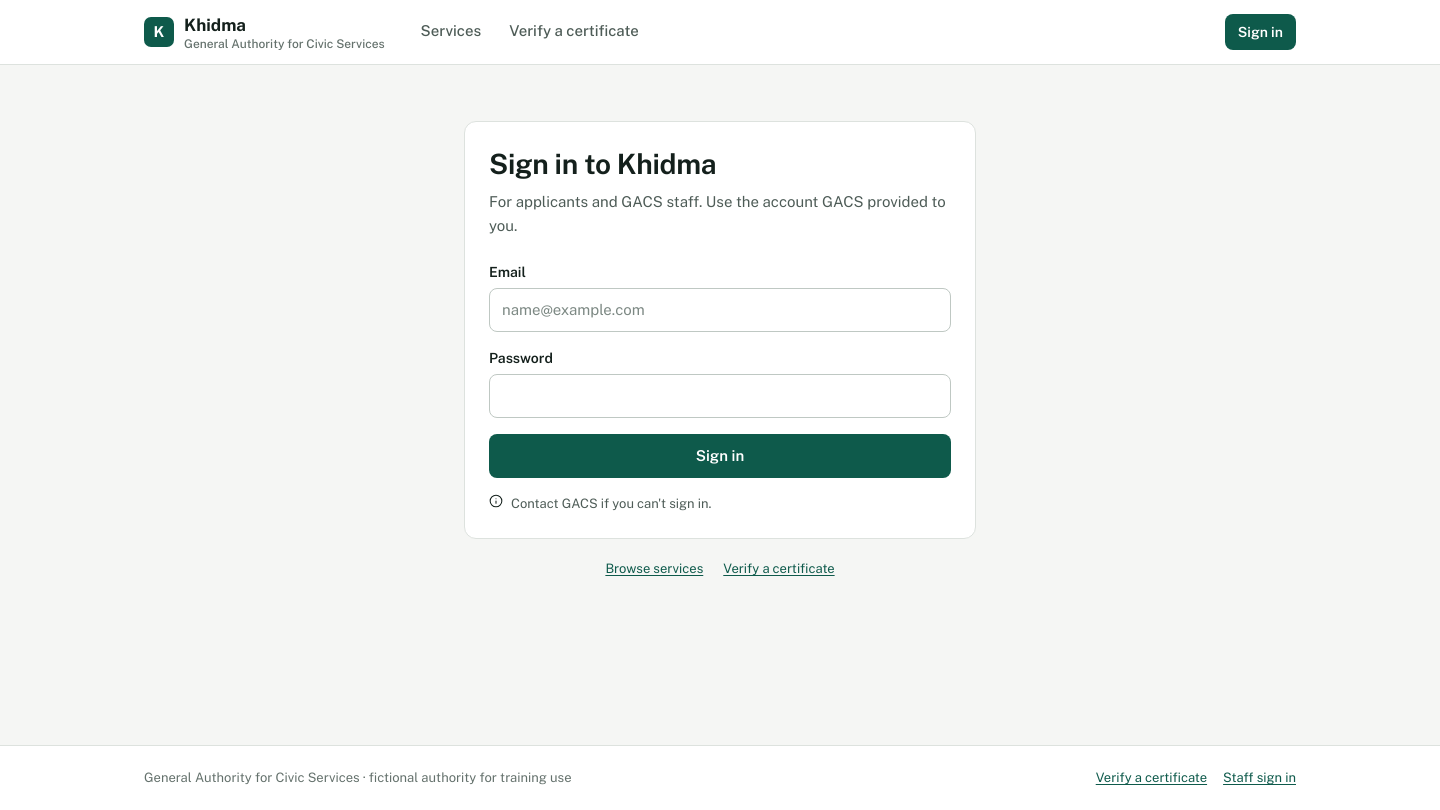
LoginPage › signs faisal in and lands on My requests
Type "faisal@khidma.test" into the field labelled "Email" at (720, 310), box [489, 288, 951, 332]
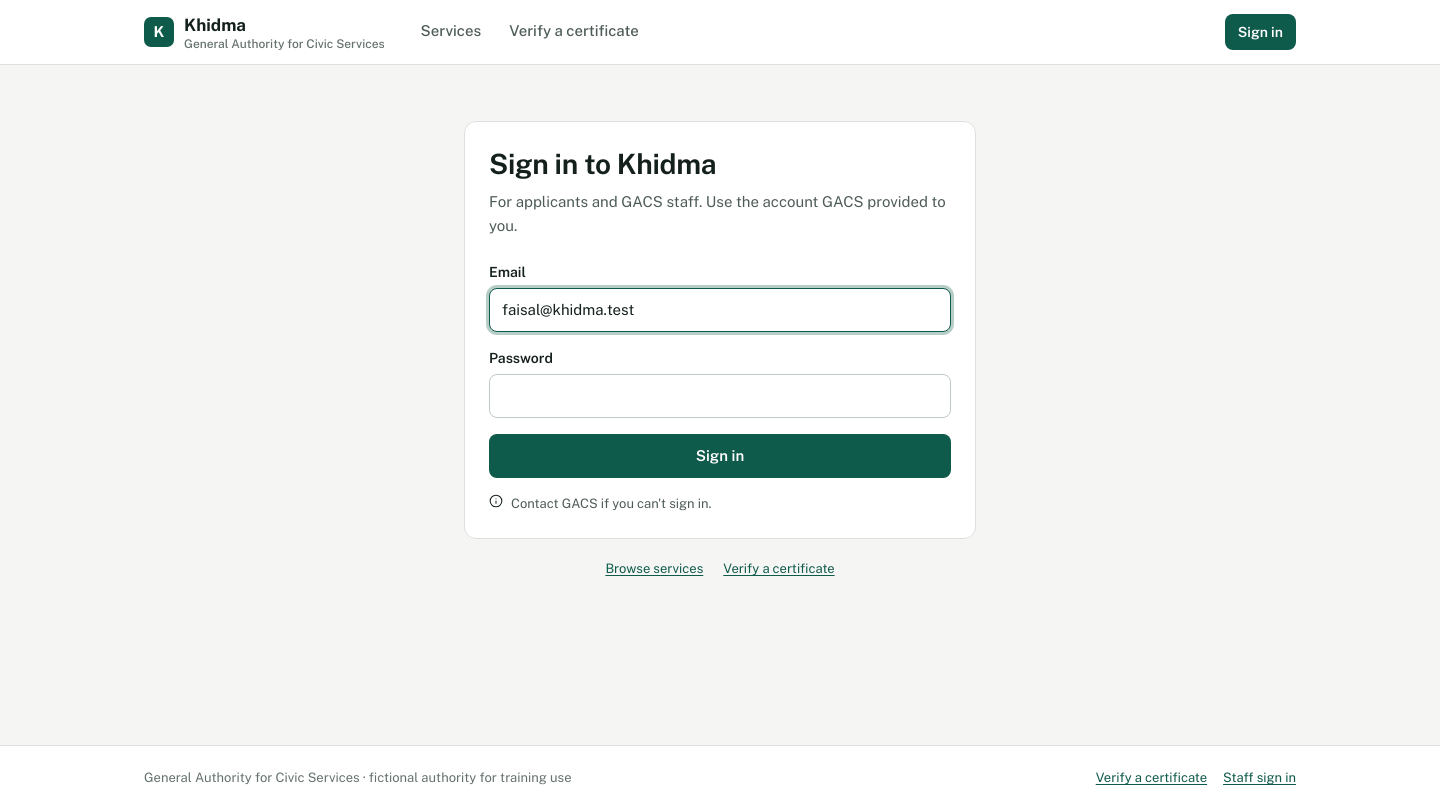
Type "Passw0rd!" into the password field labelled "Password" at (720, 396), box [489, 374, 951, 418]
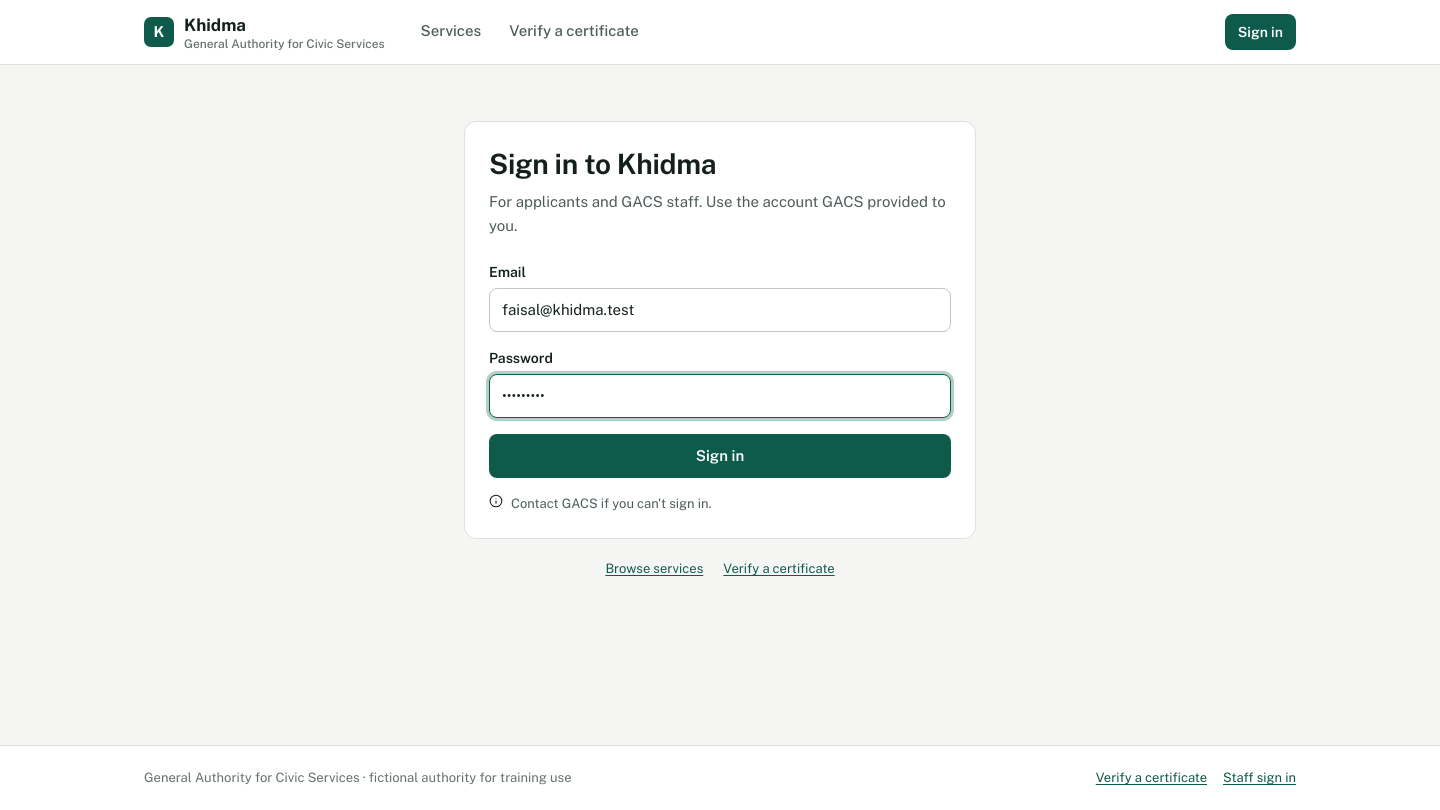
Click the button "Sign in" at (720, 456), box [489, 434, 951, 478]
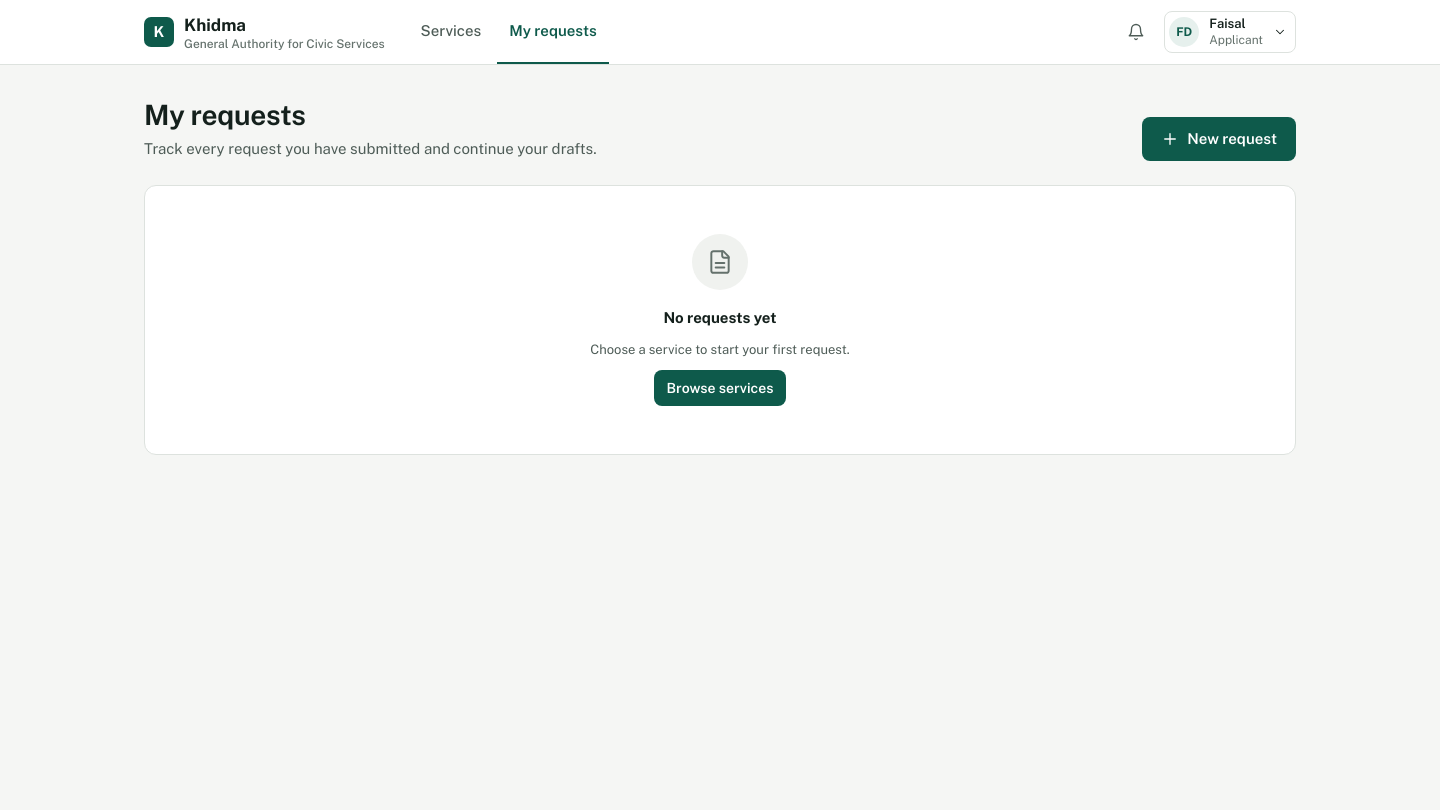
expect the heading "My requests" is shown: met, box [144, 98, 306, 131]
